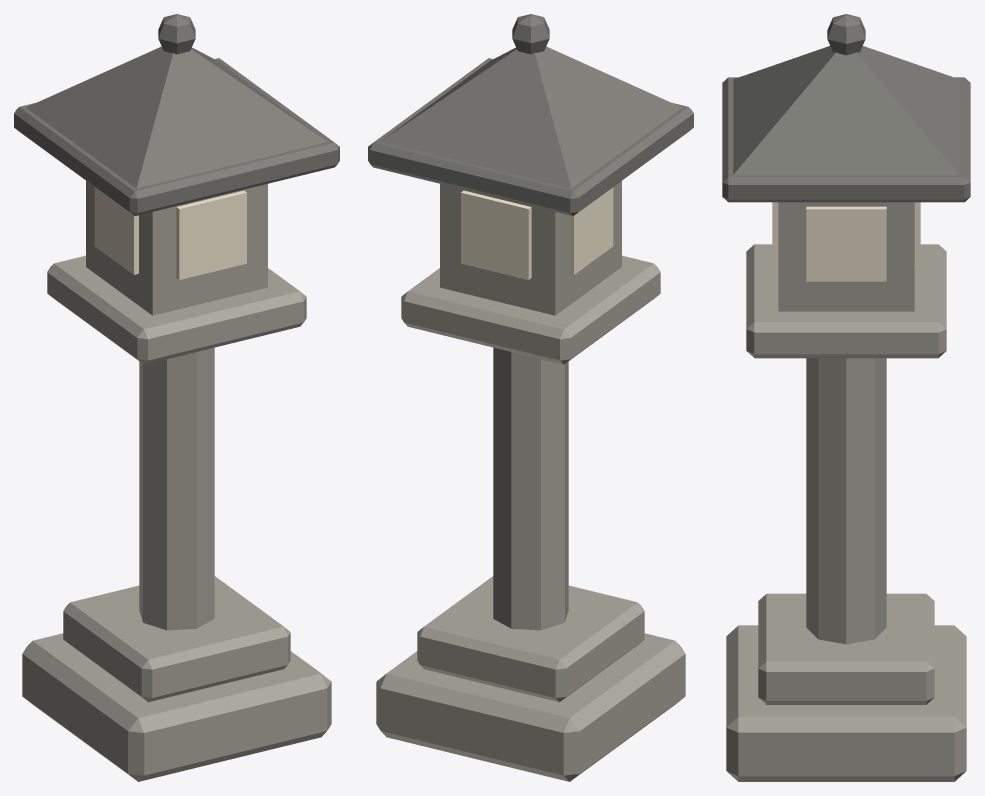
Rendered from lantern_post_stone.glb.
The picture shows the model from 3 angles, left to right: view 1: azimuth 30°, elevation 25°; view 2: azimuth 150°, elevation 25°; view 3: azimuth 270°, elevation 25°; orthographic projection. The views are drawn at different scales.
Visible parts, largest first — view 1: lantern_post_stone; view 2: lantern_post_stone; view 3: lantern_post_stone.
Part boxes in pixels (x1,y1,x2,y2): lantern_post_stone: (14,14,339,781); lantern_post_stone: (368,14,693,781); lantern_post_stone: (722,14,970,781).
Bounding box in the file's own units: 0.62 × 1.99 × 0.62.
